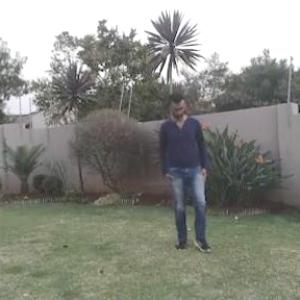follow: (160, 84, 214, 252)
